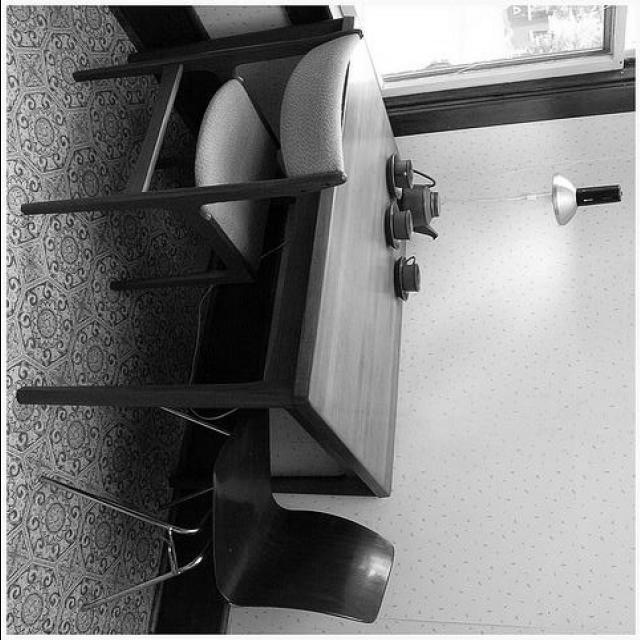chair: (19, 27, 363, 295), (42, 406, 392, 637)
table: (17, 16, 416, 498)
